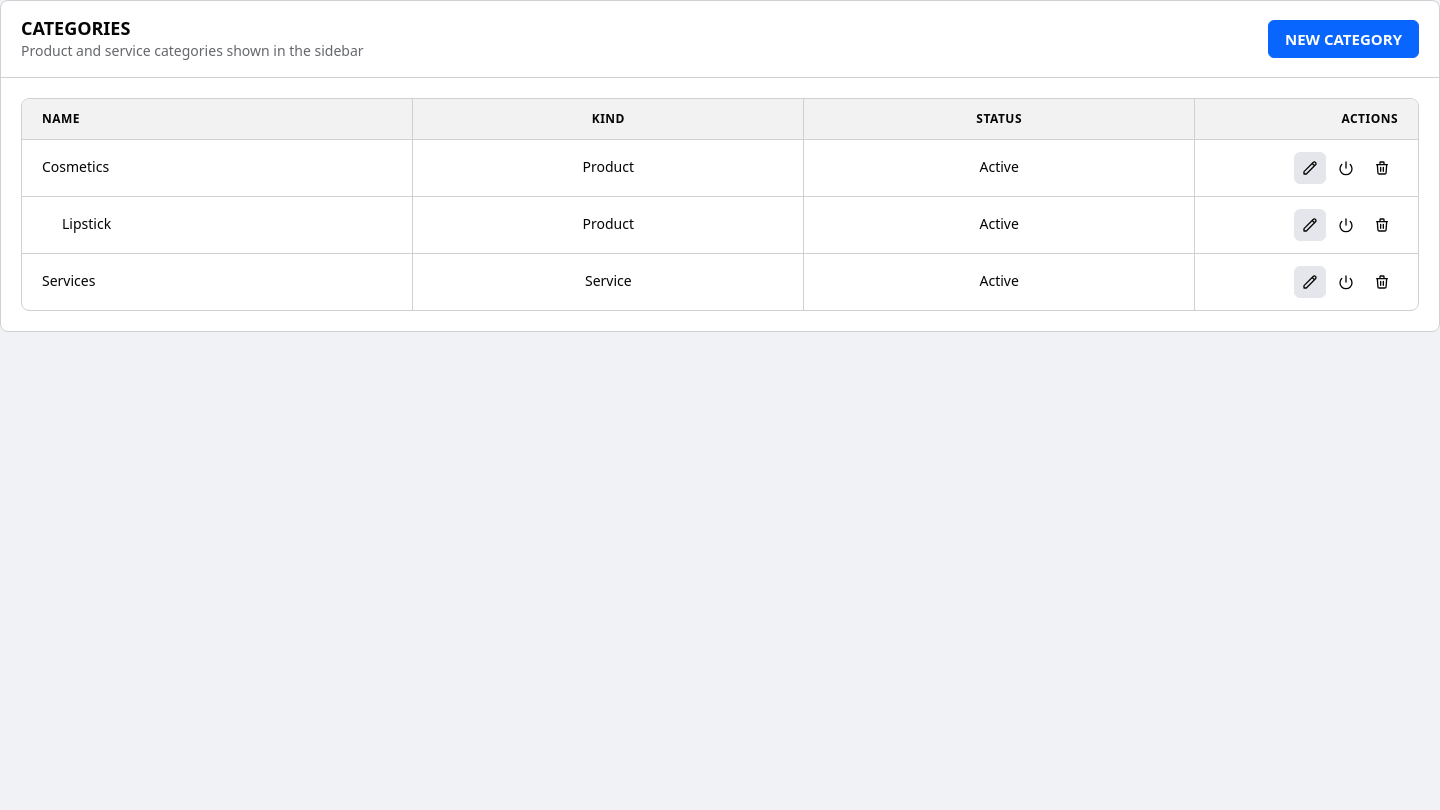
CategoriesSection › opens the edit modal
The width and height of the screenshot is (1440, 810).
Check: the text "Cosmetics" is shown, box 42,158 -> 109,177
What coordinates should you click on to do the following:
click the button named "edit "
I would click on:
 (1310, 168)
Its box is 1294,152 -> 1326,184.
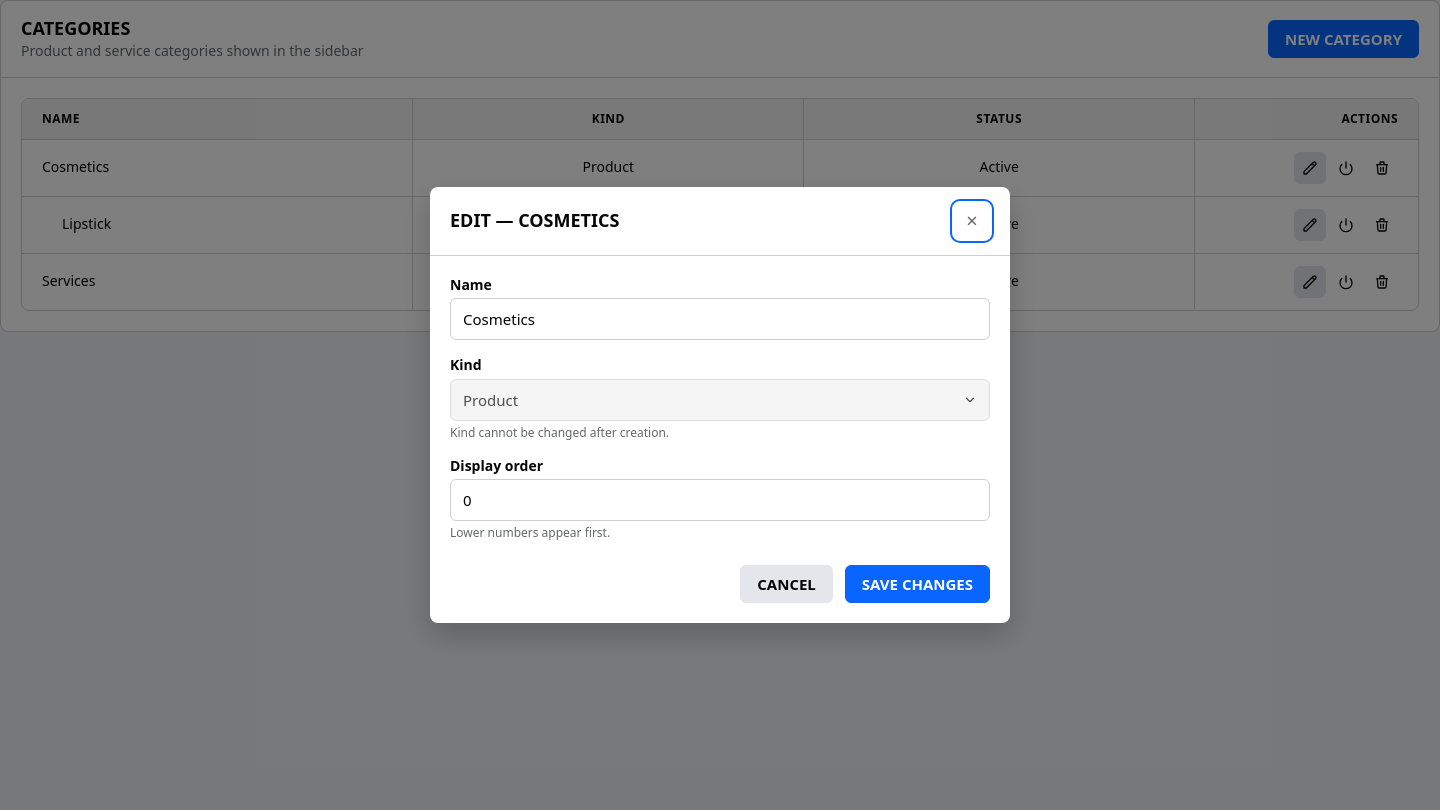
Check: the dialog is shown, box 430,186 -> 1010,623
Check: the field showing "Cosmetics" is shown, box 450,298 -> 990,340
